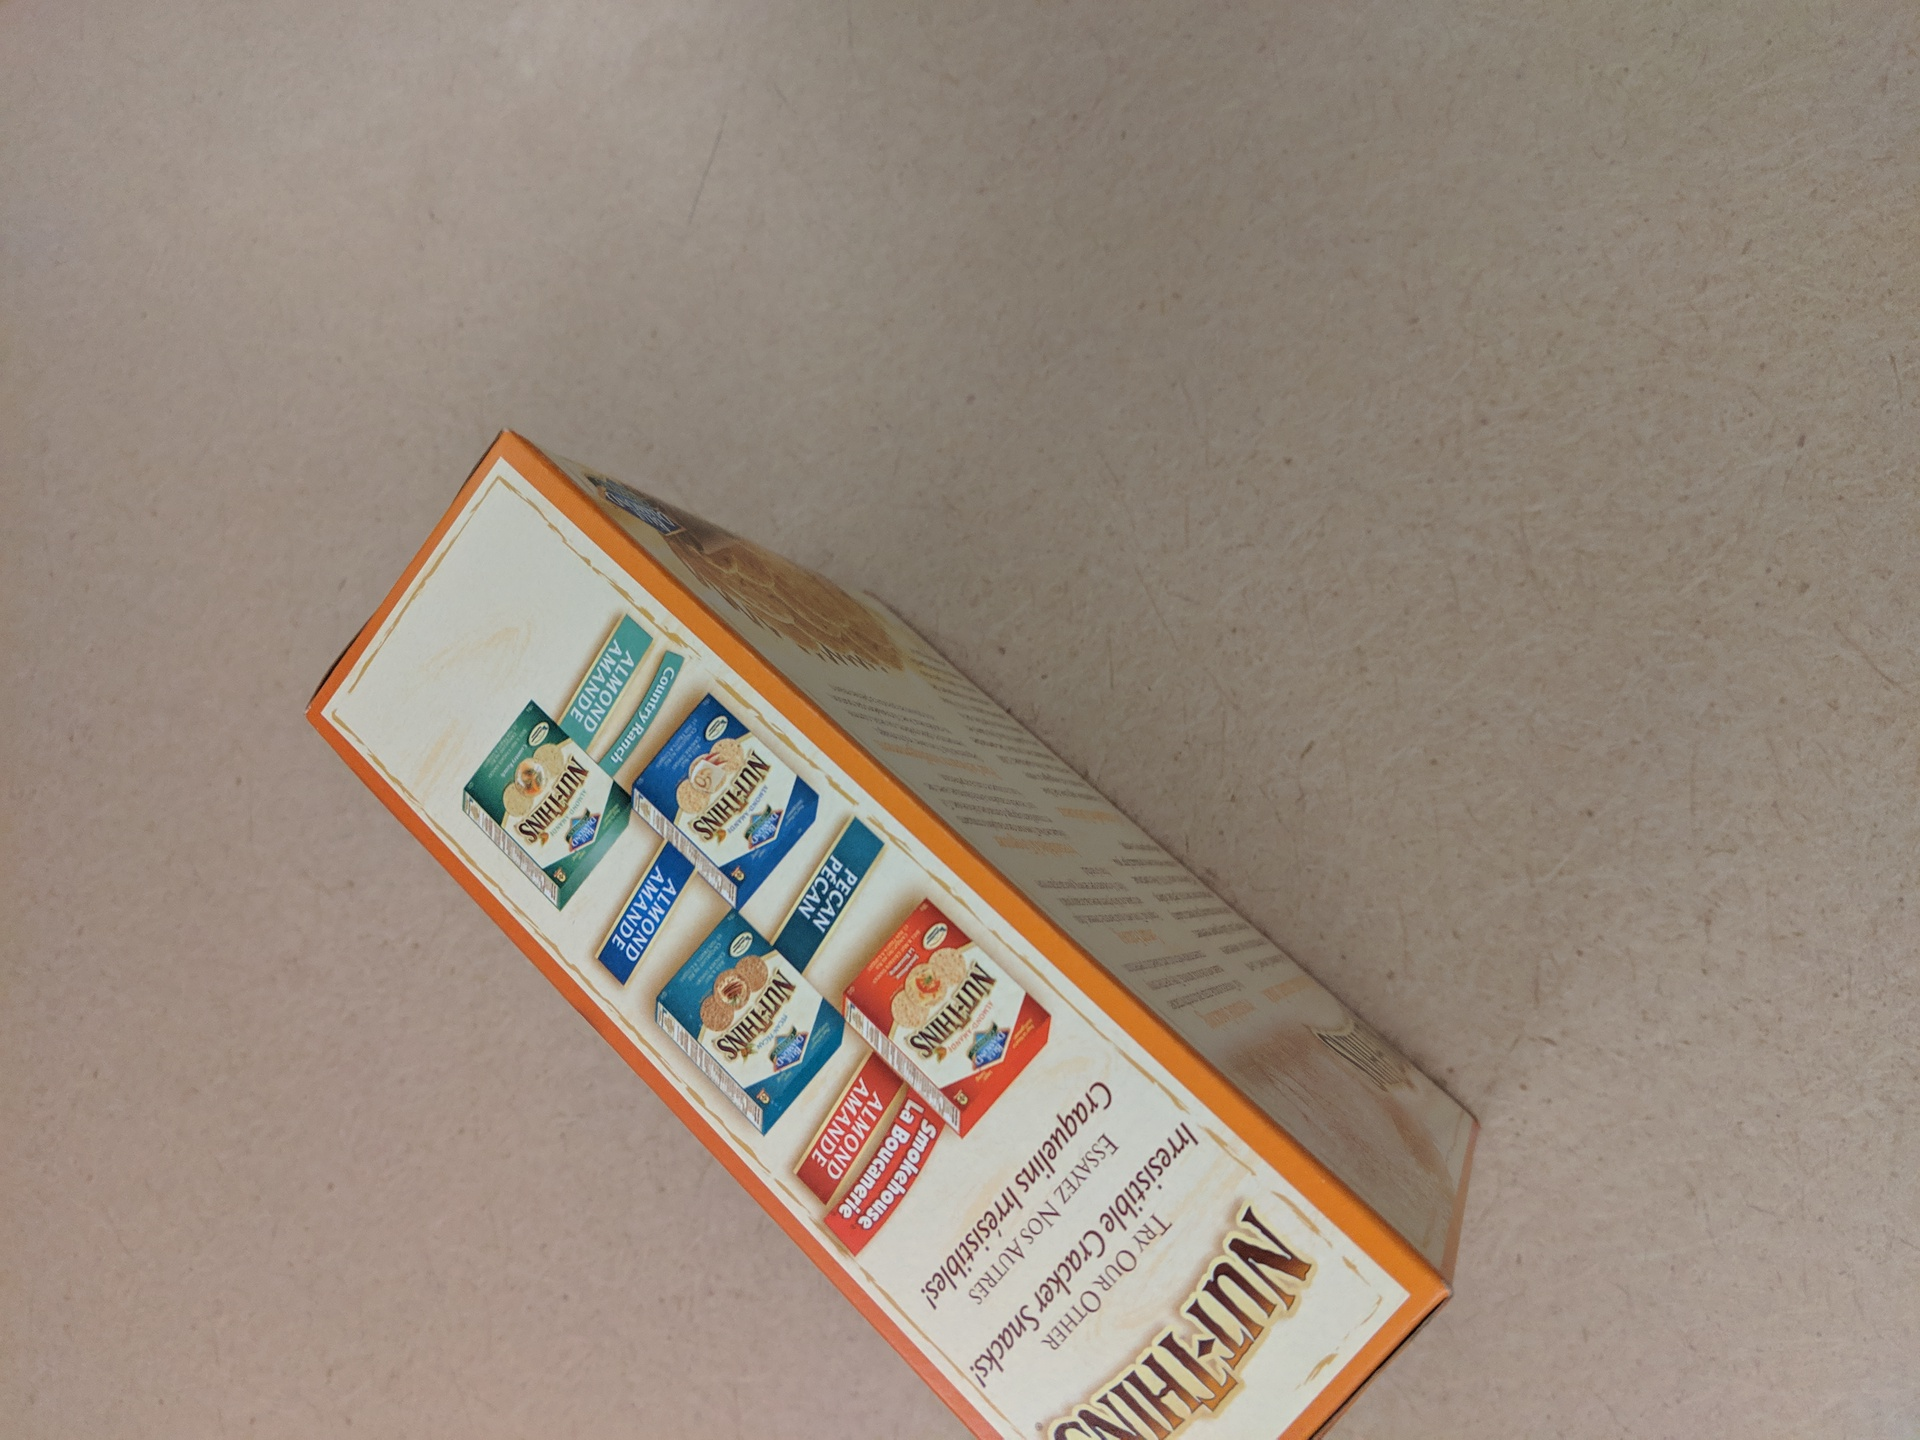blue_diamond_nut_thins_almond_cheddar: (296, 402, 1556, 1440)
